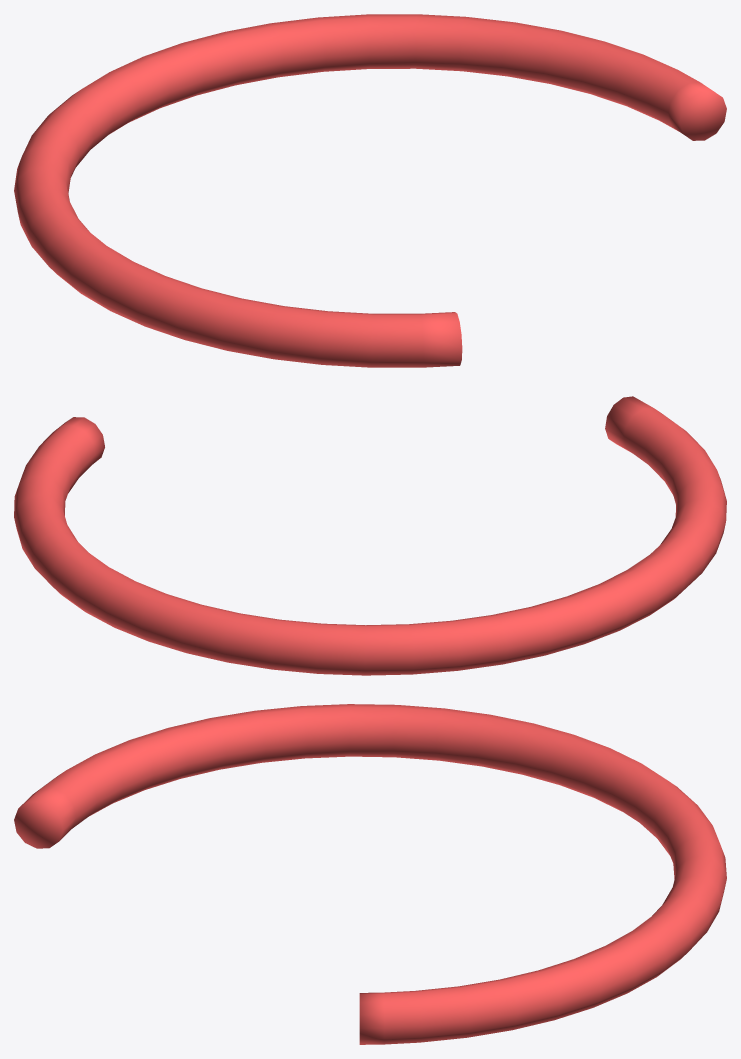
File: circle_rotate_small.FBX
3 views of the same model, one above another, from view 1: azimuth 30°, elevation 25°; view 2: azimuth 150°, elevation 25°; view 3: azimuth 270°, elevation 25° (orthographic). The views are drawn at different scales.
Parts seen in each view (by area): view 1: circle_rotate_small; view 2: circle_rotate_small; view 3: circle_rotate_small.
Boxes of the visible parts, x1,y1,x2,y2 form: circle_rotate_small: (14,14,726,367); circle_rotate_small: (14,396,726,675); circle_rotate_small: (14,704,726,1044).
Bounding box in the file's own units: 9.69 × 0.691 × 9.39.
Materials: 1 (1 with a texture image).
